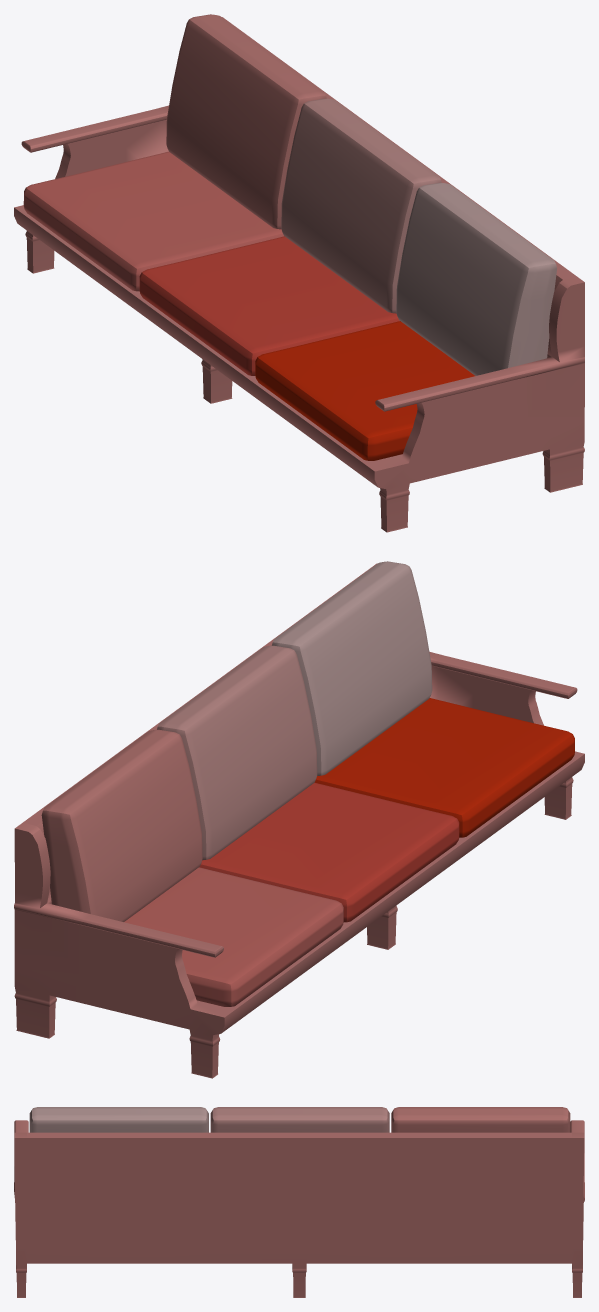
The model's file is PROP_sofa_madeira.fbx.
3 views of the same model, one above another, from view 1: azimuth 30°, elevation 25°; view 2: azimuth 150°, elevation 25°; view 3: azimuth 270°, elevation 25° (orthographic). The views are drawn at different scales.
Visible parts, largest first — view 1: Sofá2_estrutura, AlmofadaEncosto3, AlmofadaEncosto4, AlmofadaEncosto5, AlmofadaAcento4, AlmofadaAcento5, AlmofadaAcento3; view 2: Sofá2_estrutura, AlmofadaEncosto5, AlmofadaEncosto3, AlmofadaEncosto4, AlmofadaAcento4, AlmofadaAcento3, AlmofadaAcento5; view 3: Sofá2_estrutura, AlmofadaEncosto4, AlmofadaEncosto5, AlmofadaEncosto3.
Boxes of the visible parts, bbox=[...] form: Sofá2_estrutura: bbox=[14, 17, 584, 532]; AlmofadaEncosto3: bbox=[396, 182, 556, 375]; AlmofadaEncosto4: bbox=[281, 98, 441, 313]; AlmofadaEncosto5: bbox=[166, 14, 326, 229]; AlmofadaAcento4: bbox=[139, 236, 399, 375]; AlmofadaAcento5: bbox=[23, 151, 283, 291]; AlmofadaAcento3: bbox=[255, 321, 474, 460]; Sofá2_estrutura: bbox=[14, 563, 584, 1078]; AlmofadaEncosto5: bbox=[41, 729, 202, 921]; AlmofadaEncosto3: bbox=[272, 561, 432, 775]; AlmofadaEncosto4: bbox=[157, 645, 317, 860]; AlmofadaAcento4: bbox=[199, 782, 459, 922]; AlmofadaAcento3: bbox=[314, 698, 574, 837]; AlmofadaAcento5: bbox=[124, 867, 343, 1006]; Sofá2_estrutura: bbox=[14, 1120, 584, 1297]; AlmofadaEncosto4: bbox=[210, 1107, 389, 1132]; AlmofadaEncosto5: bbox=[391, 1107, 570, 1132]; AlmofadaEncosto3: bbox=[29, 1107, 208, 1132].
Size of the model in its own units: 8.96 by 9 by 26.64.
